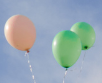Balloon: (4, 15, 36, 52), (52, 30, 81, 67)
